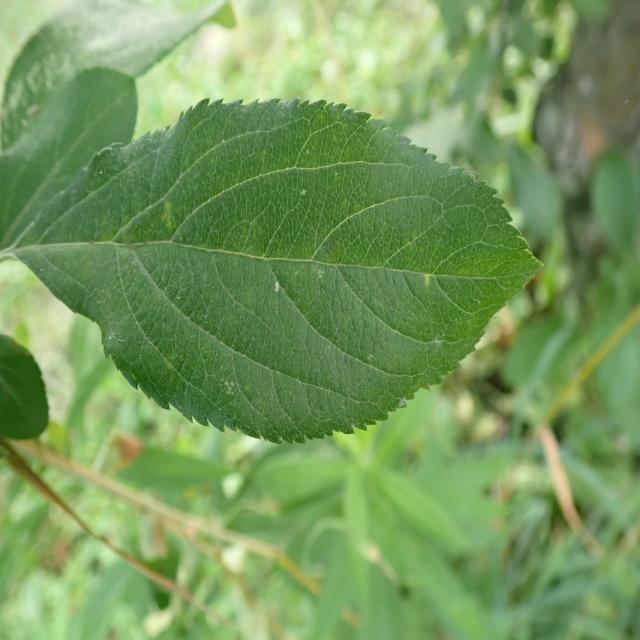scab: (149, 120, 514, 403)
